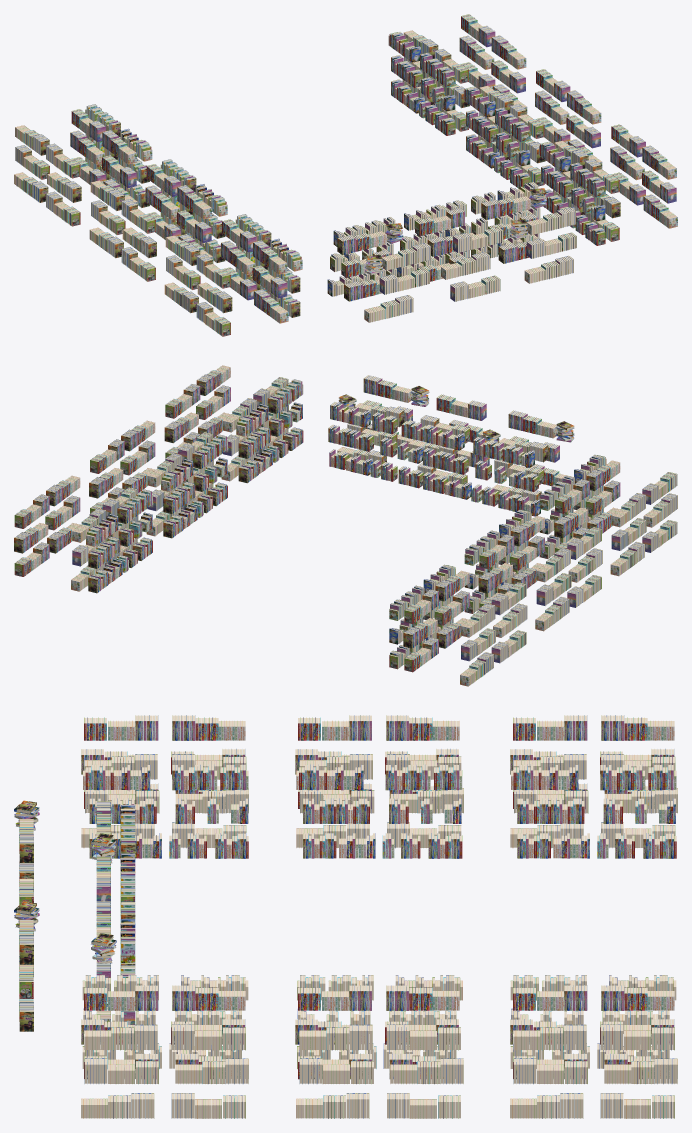
Rendered from buku perpus.fbx.
3 views of the same model, one above another, from view 1: azimuth 30°, elevation 25°; view 2: azimuth 150°, elevation 25°; view 3: azimuth 270°, elevation 25° (orthographic). The views are drawn at different scales.
Size of the model in its own units: 931 by 122 by 827.
